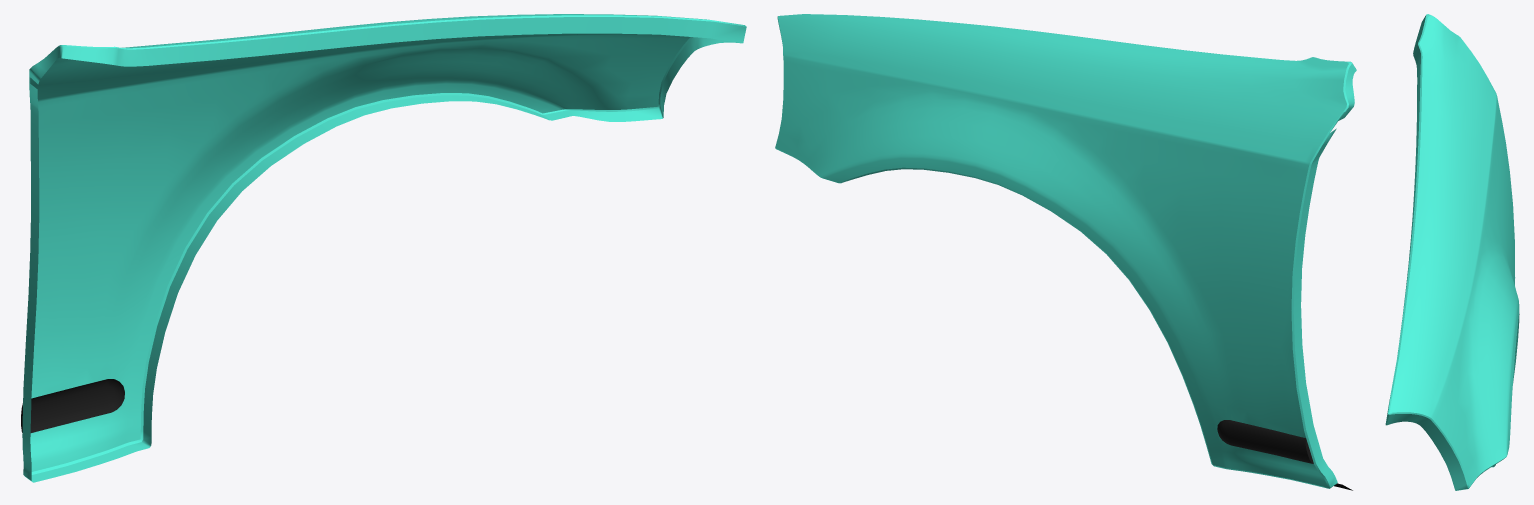
3 views of the same model, side by side, from view 1: azimuth 30°, elevation 25°; view 2: azimuth 150°, elevation 25°; view 3: azimuth 270°, elevation 25° (orthographic). The views are drawn at different scales.
Parts seen in each view (by area): view 1: H025_10_121B_L_1_DaS_H025_10_121B_L, H025_10_121B_L_1_DaS_H025_10_121B_L_E, H025_10_121B_L_H025_10_121B_L_2_D; view 2: H025_10_121B_L_1_DaS_H025_10_121B_L, H025_10_121B_L_1_DaS_H025_10_121B_L_E, H025_10_121B_L_H025_10_121B_L_2_D; view 3: H025_10_121B_L_1_DaS_H025_10_121B_L, H025_10_121B_L_1_DaS_H025_10_121B_L_E.
Boxes of the visible parts, <box> form: H025_10_121B_L_1_DaS_H025_10_121B_L: <box>22,14,746,482</box>; H025_10_121B_L_1_DaS_H025_10_121B_L_E: <box>29,15,746,474</box>; H025_10_121B_L_H025_10_121B_L_2_D: <box>21,379,124,432</box>; H025_10_121B_L_1_DaS_H025_10_121B_L: <box>775,14,1356,488</box>; H025_10_121B_L_1_DaS_H025_10_121B_L_E: <box>775,14,1351,488</box>; H025_10_121B_L_H025_10_121B_L_2_D: <box>1217,420,1313,463</box>; H025_10_121B_L_1_DaS_H025_10_121B_L: <box>1385,15,1519,490</box>; H025_10_121B_L_1_DaS_H025_10_121B_L_E: <box>1388,14,1519,488</box>.
Bounding box in the file's own units: 102 × 64.57 × 19.26.
